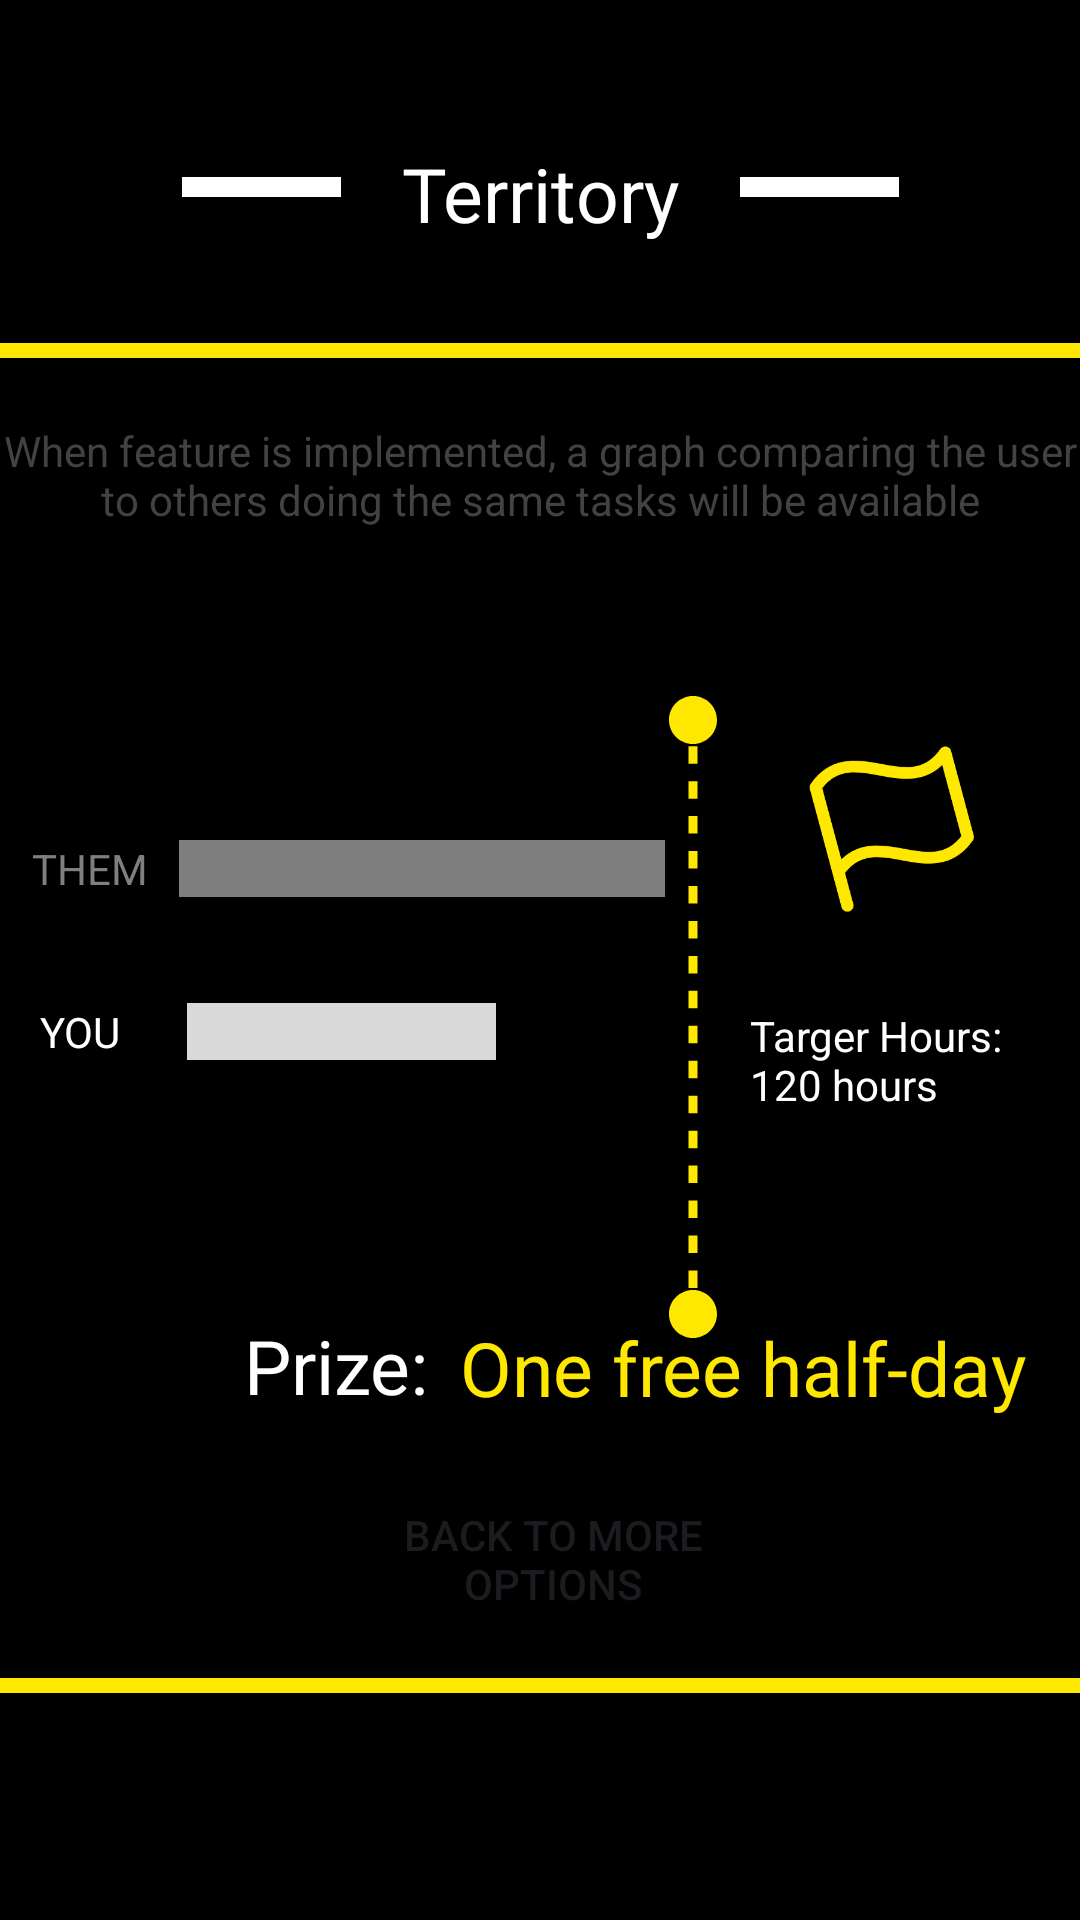

Named icons in this screenshot (1080px x 1920px) and their centers, point (x, y):
flag symbol: point (891, 829)
